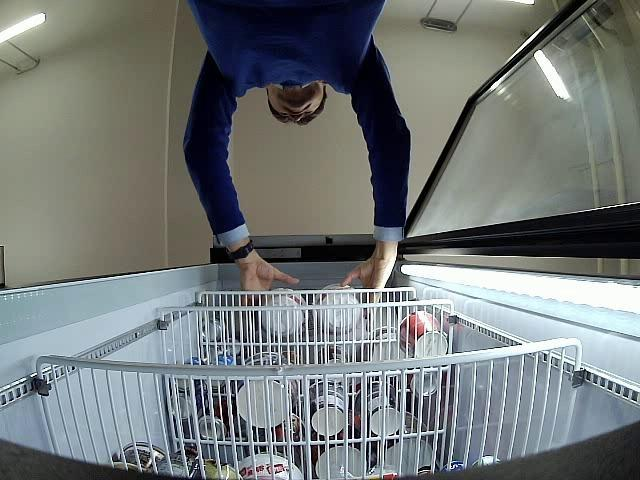09_yukGaeJang: (262, 288, 307, 338), (318, 284, 362, 334)
